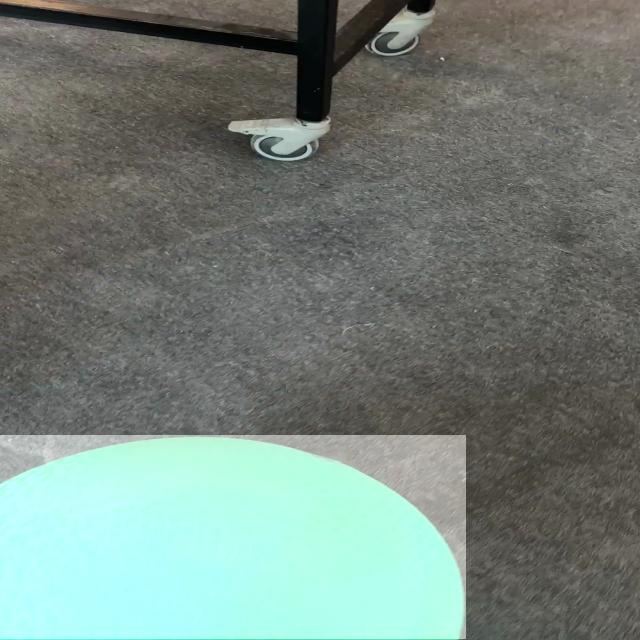Algae: (1, 435, 467, 639)
